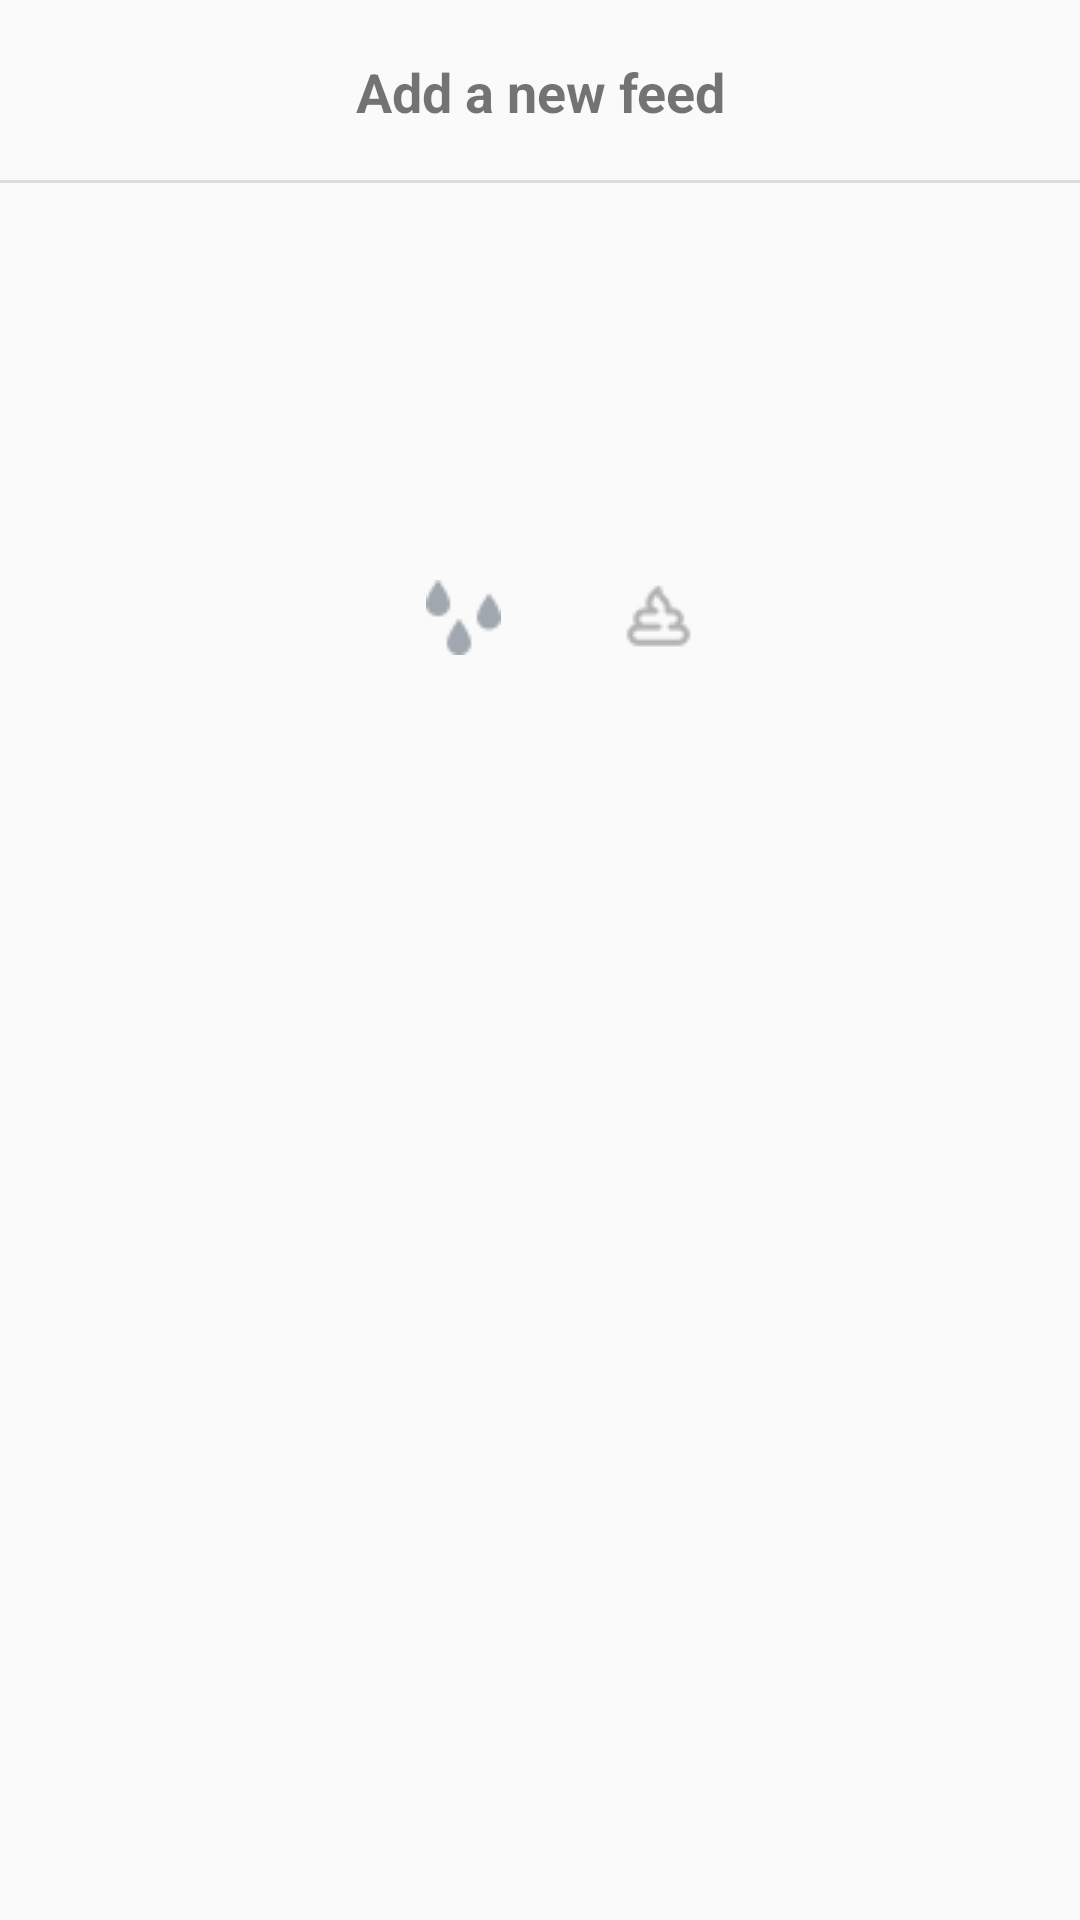

Locate icon controls on the screen. Image size 1080x1920, boxes as {"x1": x1, "y1": y1, "x2": x2, "y2": y2}.
soiled nappy: {"x1": 627, "y1": 586, "x2": 690, "y2": 646}
wet nappy: {"x1": 426, "y1": 580, "x2": 501, "y2": 655}
